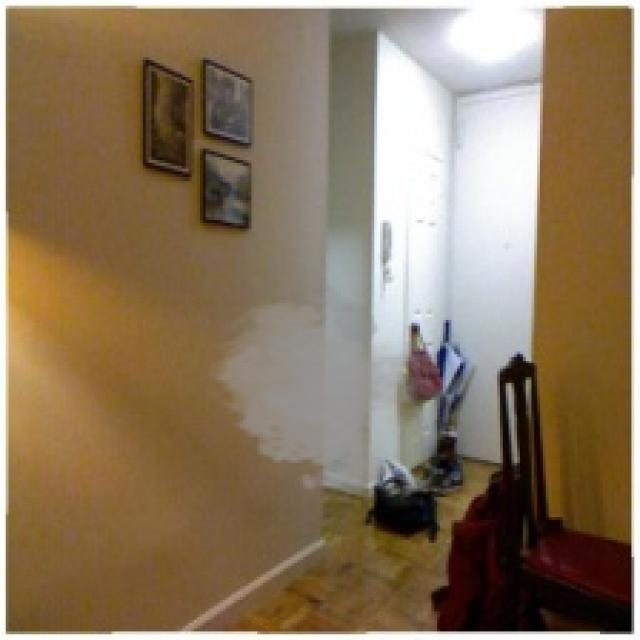Smoke: (206, 280, 468, 503)
